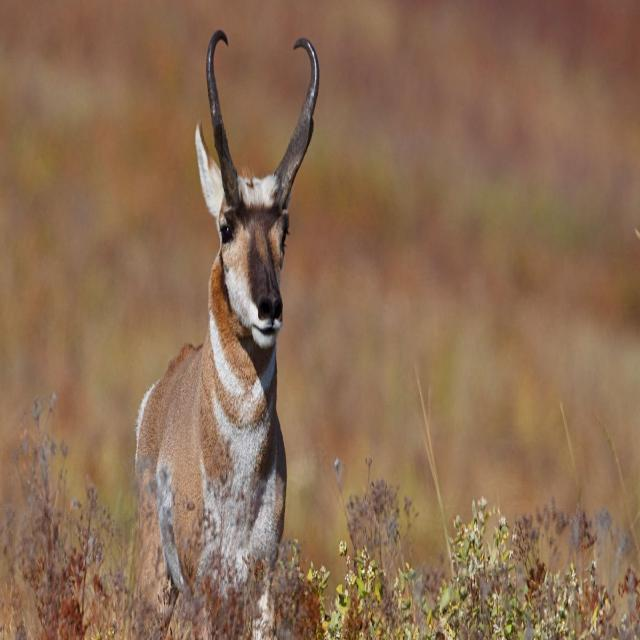Antelope: (133, 25, 320, 616)
